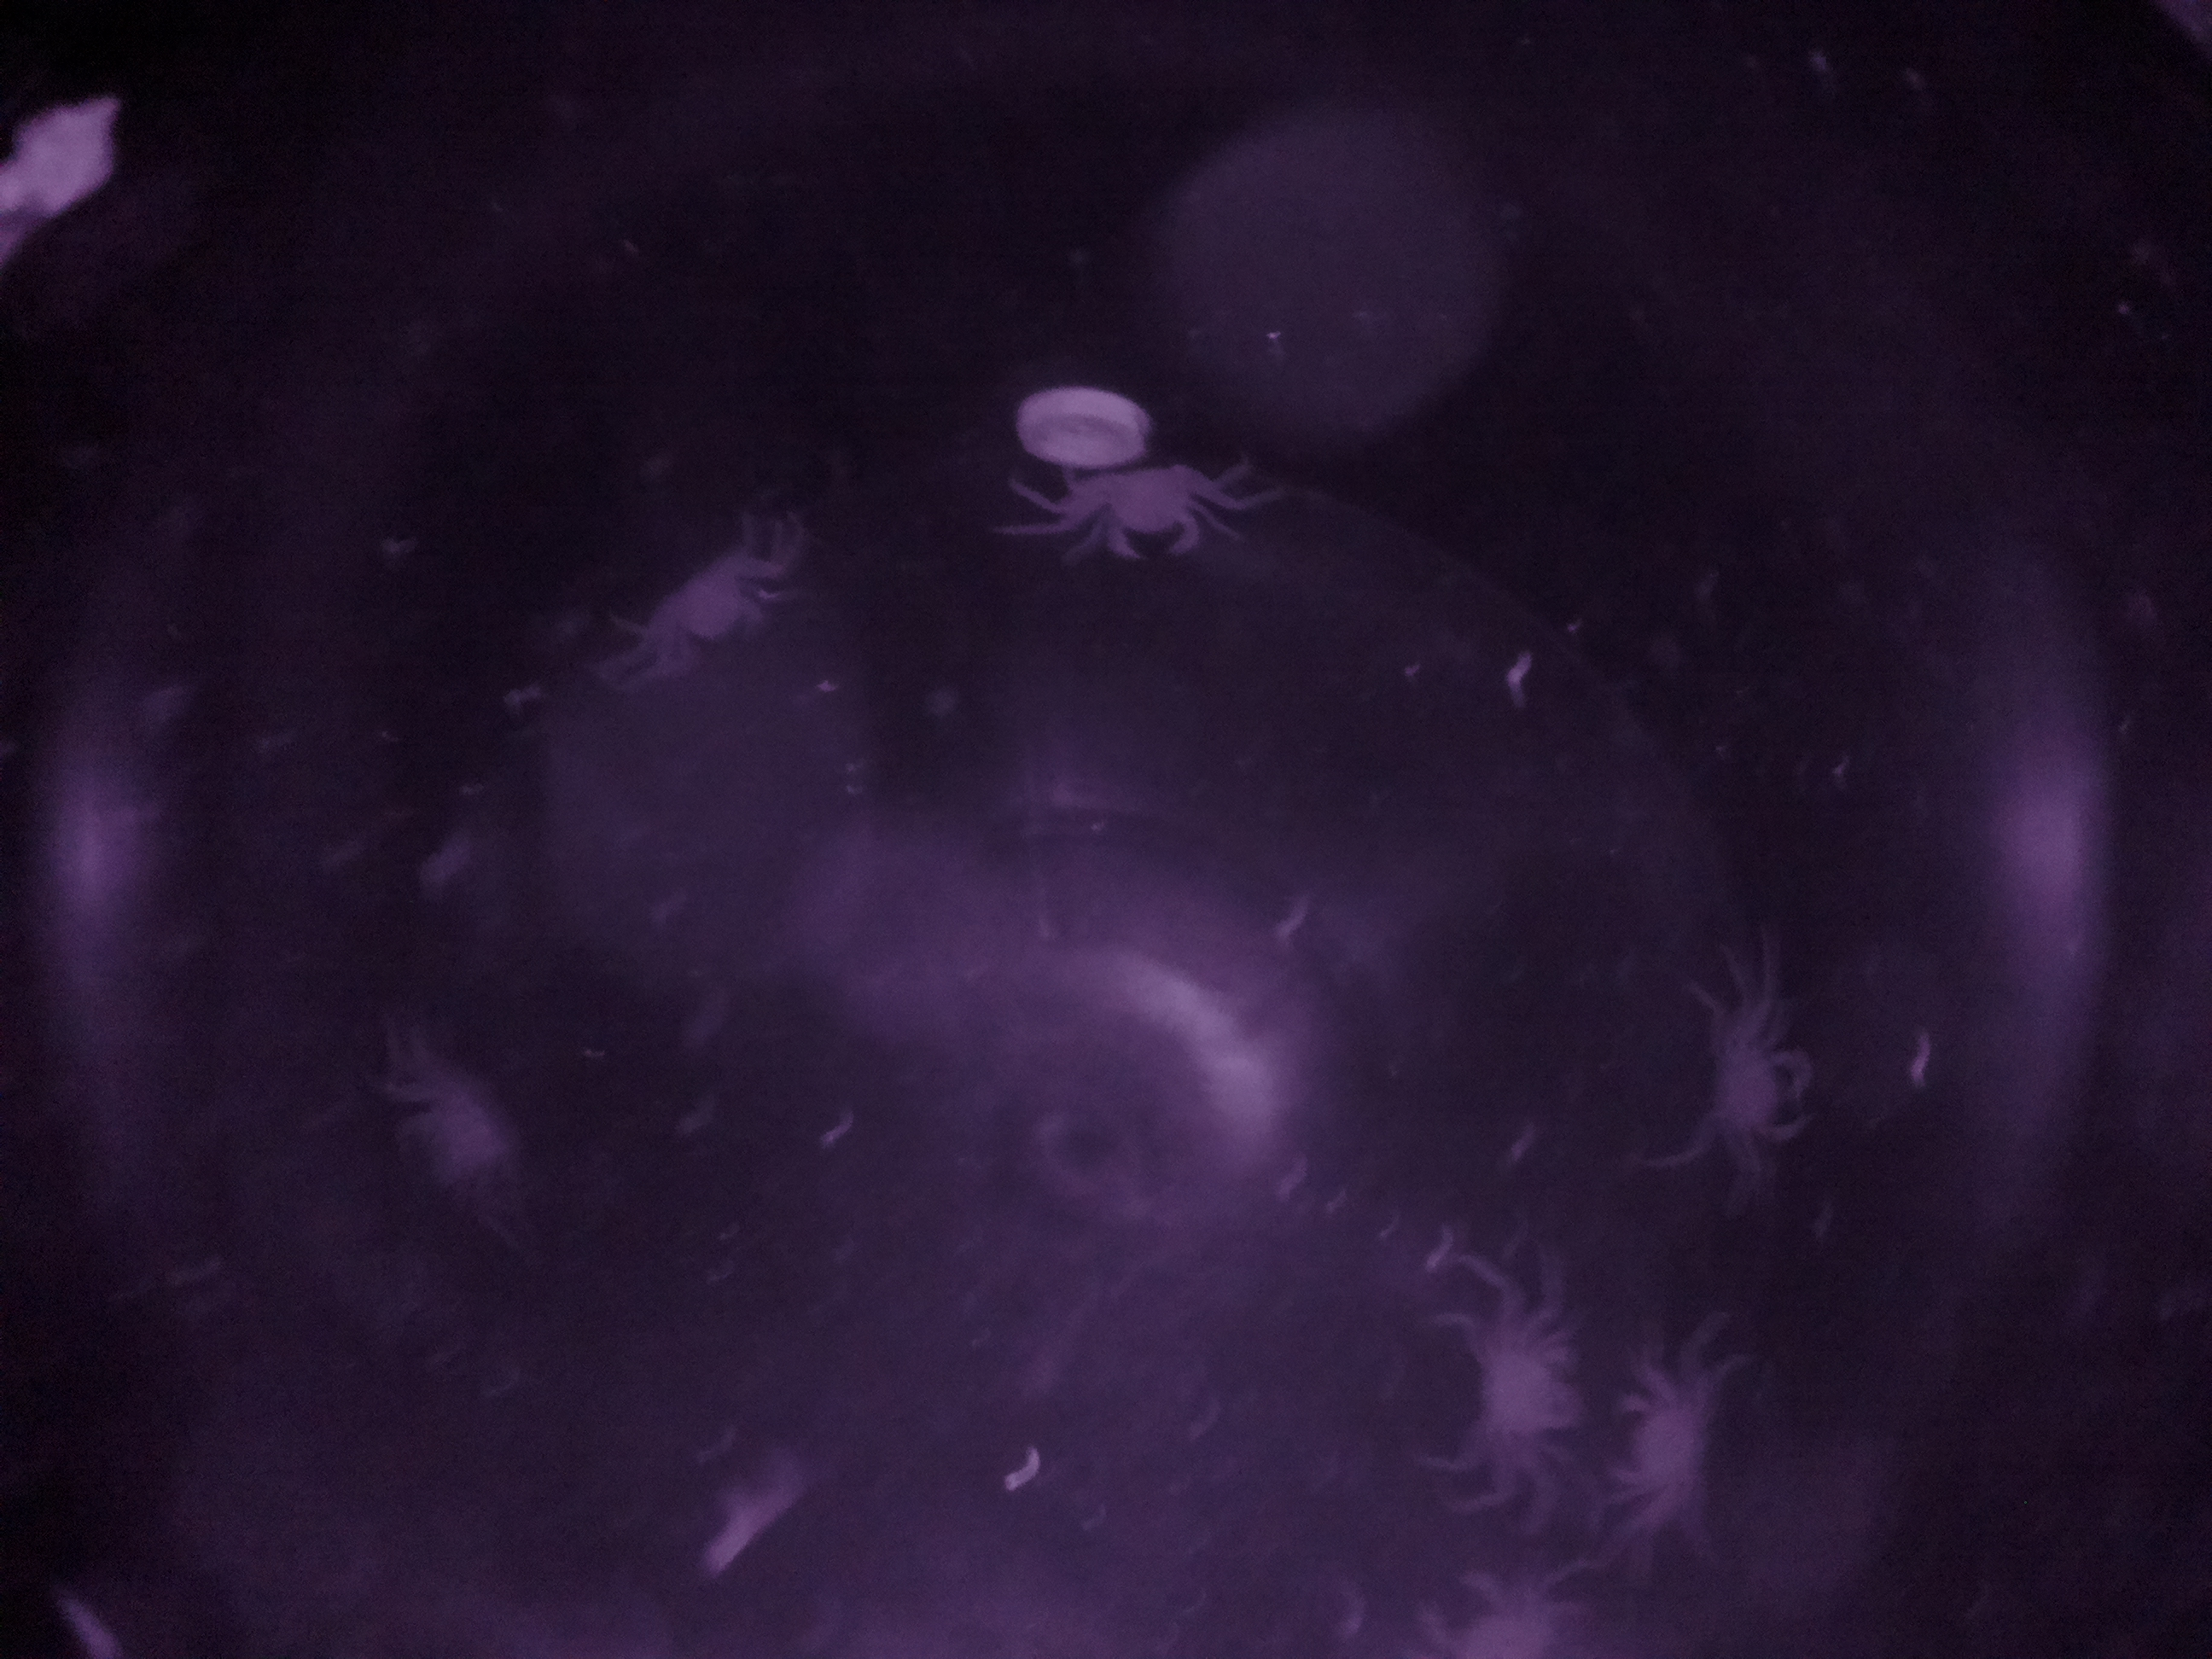Crab: (1045, 439, 1247, 563)
